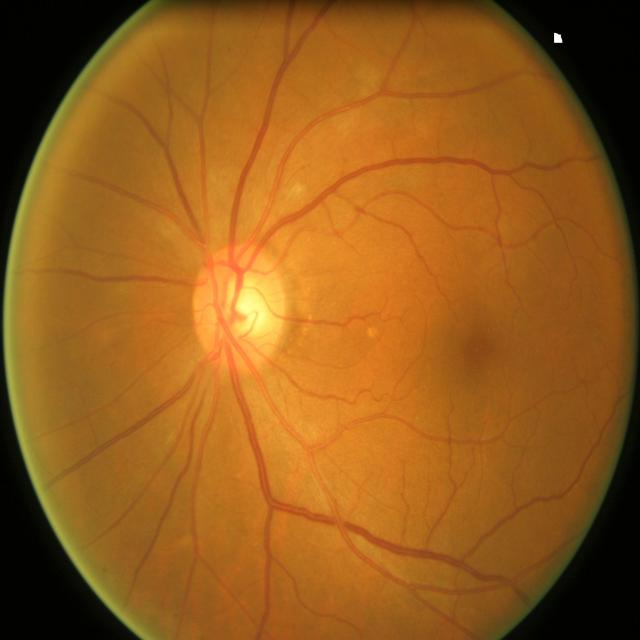OC: (216, 275, 271, 339)
OD: (189, 244, 287, 365)
